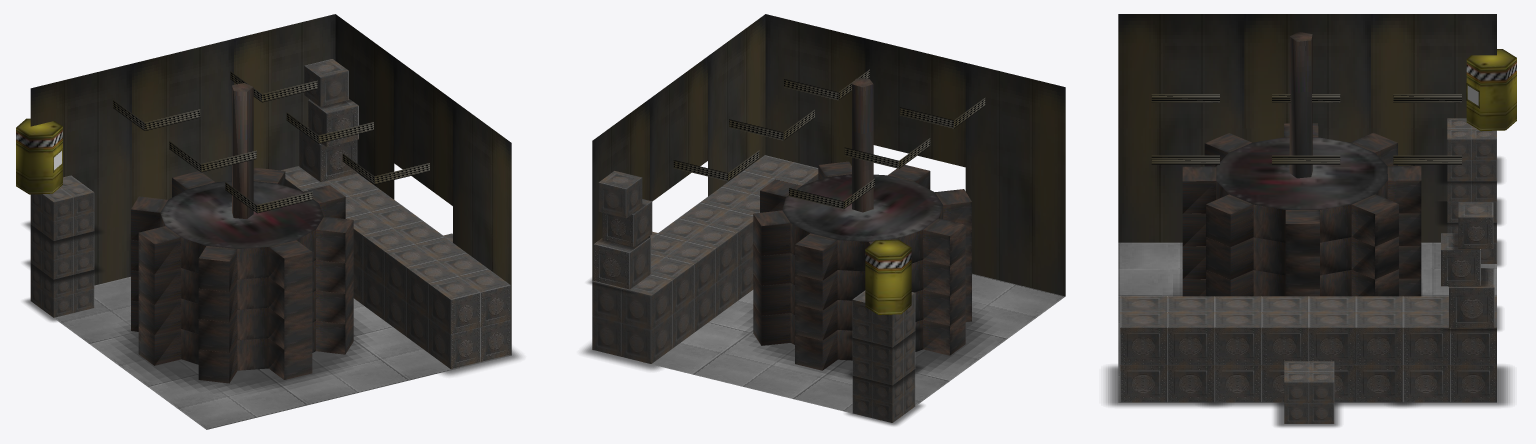
Rendered from room_8.glb.
3 views of the same model, side by side, from view 1: azimuth 30°, elevation 25°; view 2: azimuth 150°, elevation 25°; view 3: azimuth 270°, elevation 25° (orthographic). The views are drawn at different scales.
Visible parts, largest first — view 1: wall, MintGear2 (×4), CBMetalBoxSides (×6), floor, MintGearFloor, CBMetalBoxTop (×5), C1MetalBox3 (×3), RoundShadow, gagTank1, post2, Lights10, Lights7 (+5 smaller); view 2: wall, MintGear2 (×4), CBMetalBoxSides (×6), floor, MintGearFloor, CBMetalBoxTop (×4), C1MetalBox3 (×3), gagTank1, post2, RoundShadow, Lights10, Lights7 (+5 smaller); view 3: wall, CBMetalBoxSides (×8), MintGear2 (×4), CBMetalBoxTop (×6), MintGearFloor, C1MetalBox3 (×3), floor, CBMetalBoxShadow (×5), gagTank1, post2, Lights9, Lights11 (+4 smaller).
Part boxes in pixels (x1,y1,x2,y2): wall: (30, 14, 511, 355); MintGear2 (×4): (131, 171, 353, 383); CBMetalBoxSides (×6): (30, 192, 510, 369); floor: (32, 276, 510, 429); MintGearFloor: (131, 167, 353, 261); CBMetalBoxTop (×5): (43, 166, 510, 299); C1MetalBox3 (×3): (299, 59, 358, 181); RoundShadow: (119, 318, 367, 391); gagTank1: (16, 118, 62, 194); post2: (232, 83, 253, 218); Lights10: (169, 141, 256, 172); Lights7: (225, 182, 312, 213); wall: (592, 14, 1065, 296); MintGear2 (×4): (753, 165, 971, 370); CBMetalBoxSides (×6): (592, 221, 915, 422); floor: (593, 273, 1065, 423); MintGearFloor: (753, 161, 971, 250); CBMetalBoxTop (×4): (592, 155, 818, 295); C1MetalBox3 (×3): (593, 171, 652, 289); gagTank1: (865, 239, 911, 314); post2: (852, 78, 873, 212); RoundShadow: (743, 307, 987, 376); Lights10: (844, 138, 930, 168); Lights7: (899, 98, 985, 128); wall: (1118, 14, 1496, 242); CBMetalBoxSides (×8): (1120, 139, 1496, 423); MintGear2 (×4): (1182, 143, 1421, 296); CBMetalBoxTop (×6): (1120, 118, 1496, 382); MintGearFloor: (1182, 123, 1421, 223); C1MetalBox3 (×3): (1441, 202, 1494, 327); floor: (1118, 242, 1496, 402); CBMetalBoxShadow (×5): (1105, 157, 1511, 427); gagTank1: (1466, 49, 1516, 131); post2: (1289, 32, 1312, 178); Lights9: (1393, 155, 1461, 164); Lights11: (1272, 155, 1340, 164).
Bounding box in the file's own units: 54.41 × 35.31 × 50.78.
14 materials, 13 textured.
